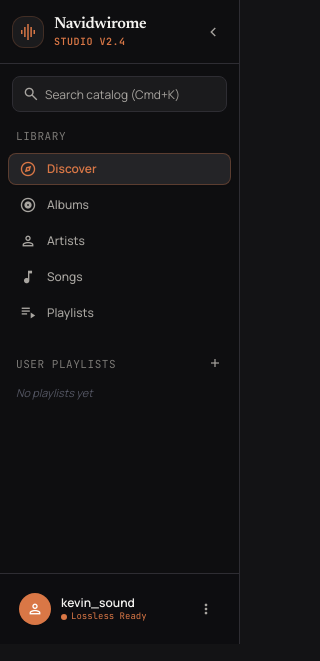
Test: Sidebar › opens profile popover menu when clicking user bar and navigates to /settings
Click the element titled "Open Profile Menu". click: [120, 609]
box: [12,586,227,632]
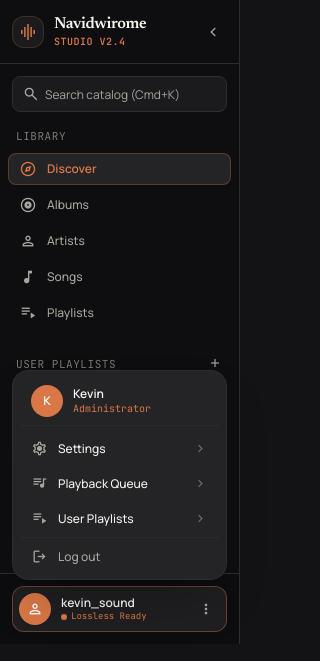
Result: the menu is shown at [12,370,227,580]
Result: the text "Settings" is shown
Result: the text "Log out" is shown at [58,550,100,562]
Click the text "Settings". click: [82, 448]
box: [58,440,106,456]
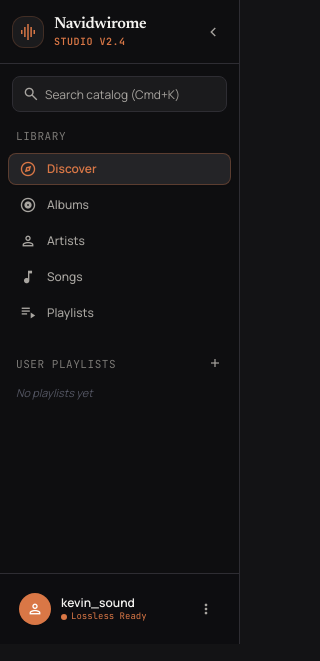
Result: the menu is gone
